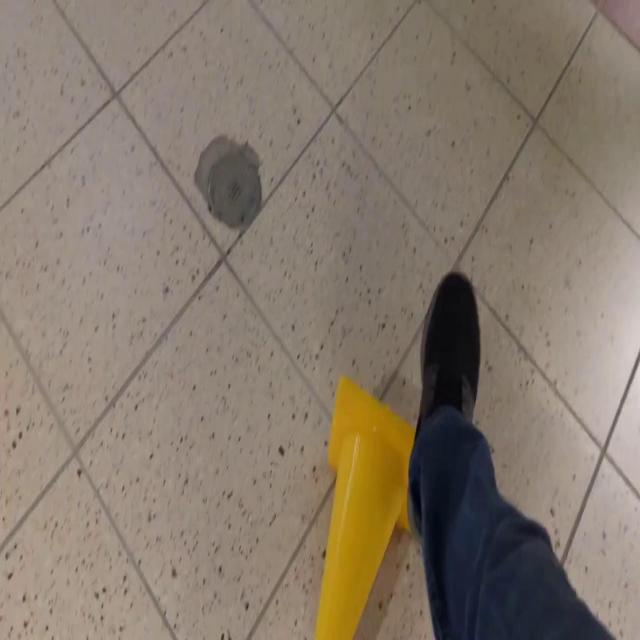frc_cone: (315, 374, 417, 640)
